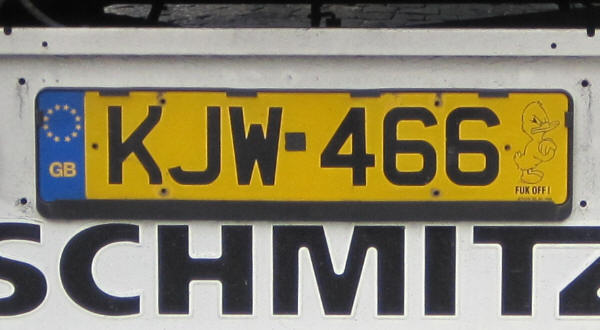license_plate: (36, 87, 569, 207)
